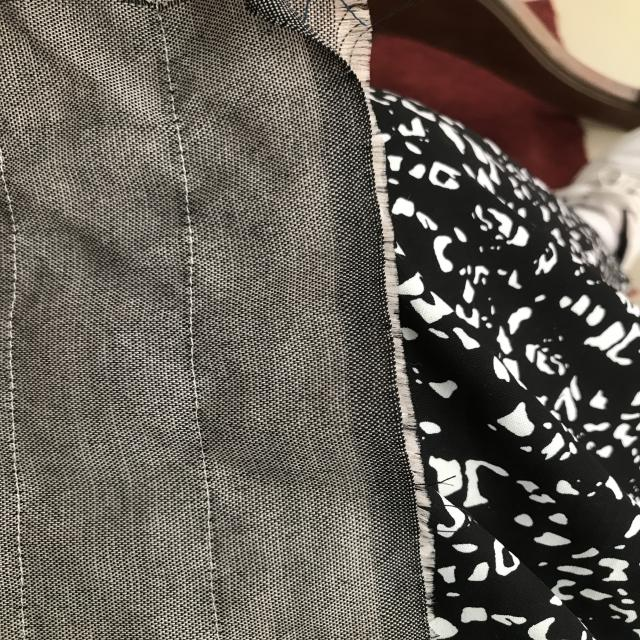good: (180, 427, 225, 577), (176, 209, 210, 391), (2, 463, 44, 608)
